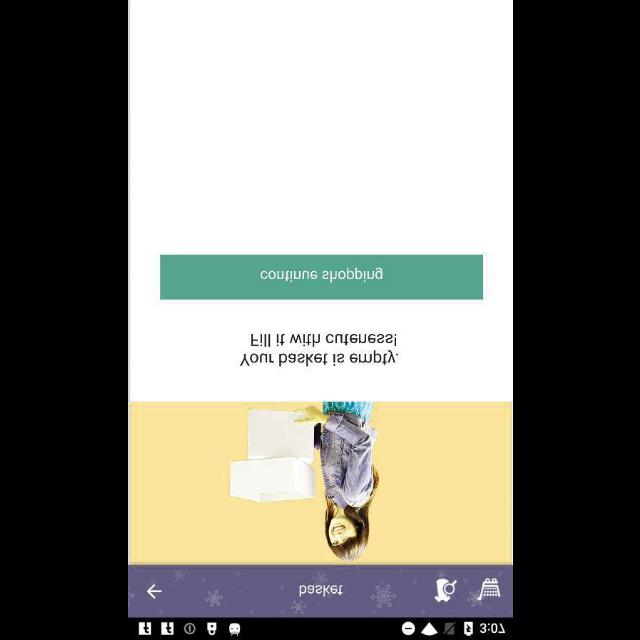icon: (433, 577, 457, 601), (476, 576, 500, 600), (146, 582, 162, 598)
image: (228, 401, 379, 561)
text: (240, 333, 398, 367), (299, 584, 343, 596)
textbutton: (160, 254, 482, 300)
toolbar: (128, 566, 512, 616)
uppertaskbar: (128, 617, 512, 639)
